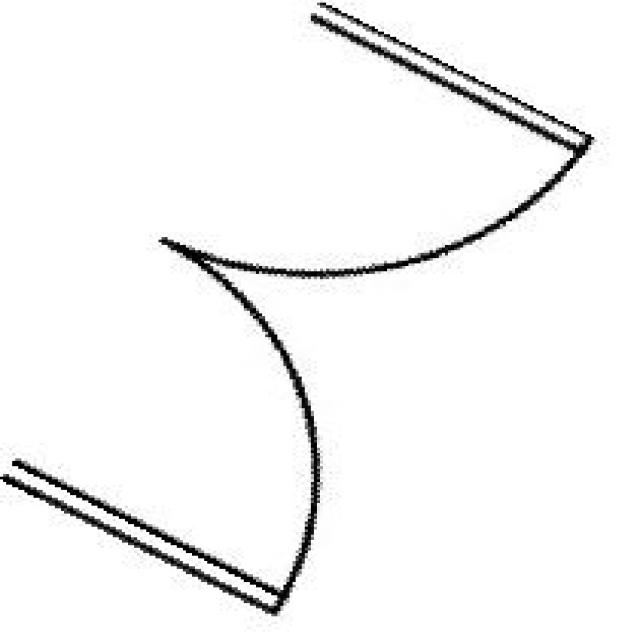door: (0, 2, 588, 608)
